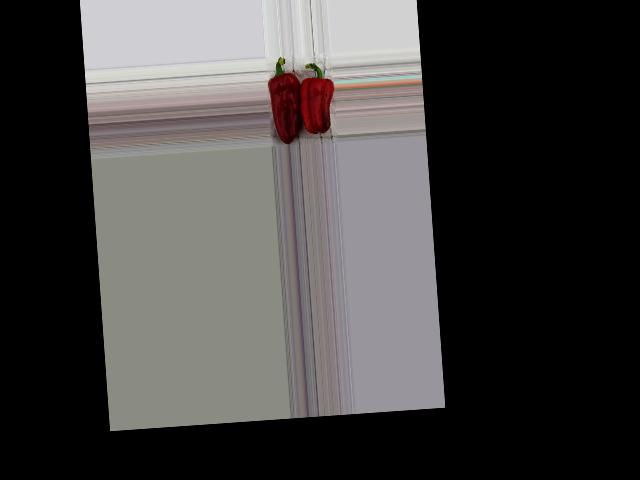bell_pepper: (266, 53, 304, 145)
